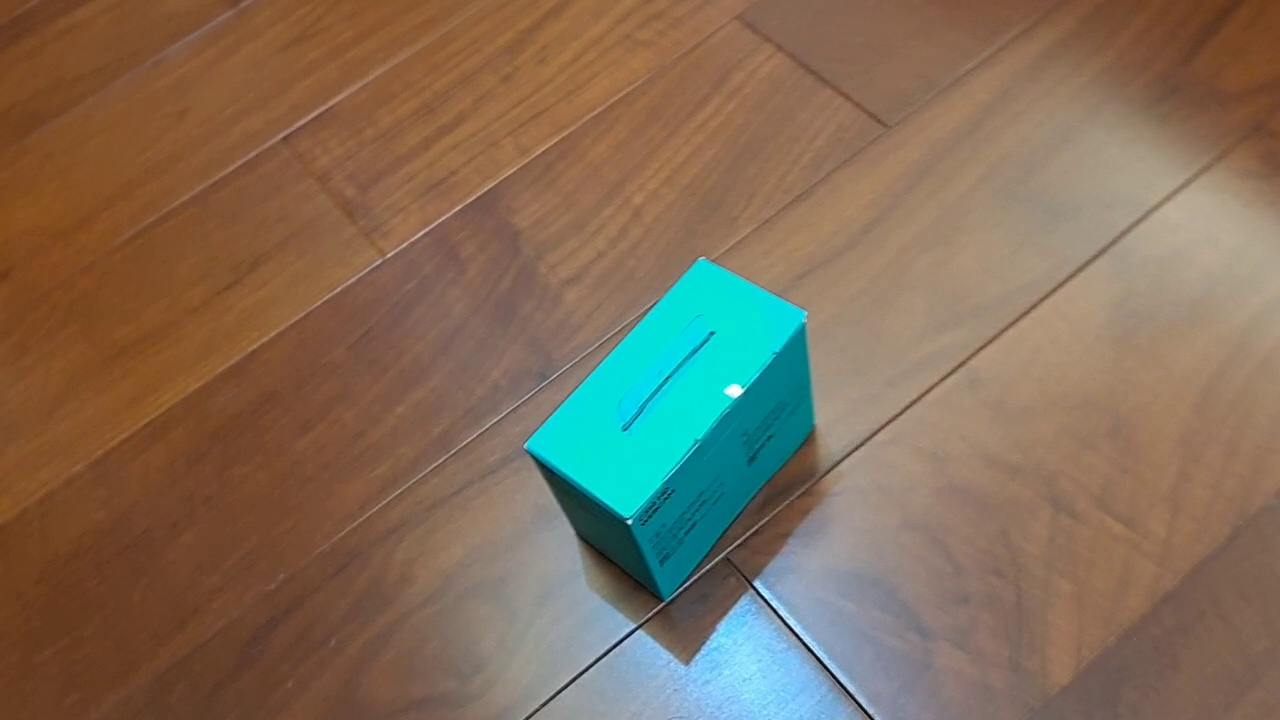webcam: (520, 254, 818, 604)
